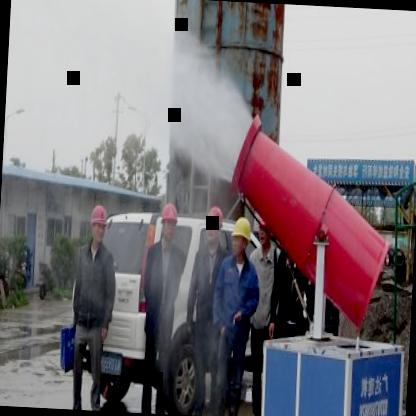helmet: (156, 198, 181, 248), (228, 214, 254, 262), (86, 202, 110, 243), (202, 201, 223, 246)
